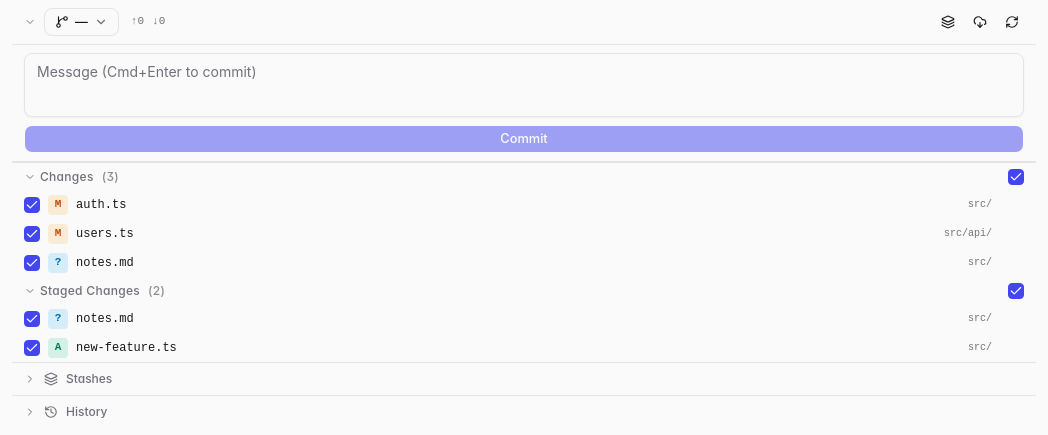
SourceControlPanel › disables Commit until message is populated
Expected: the button with test id "scm-commit-submit" is disabled, [24,125,1024,153]
Type "feat: ship slice" into the text box with test id "scm-message" at (524, 85), box [24,53,1024,117]
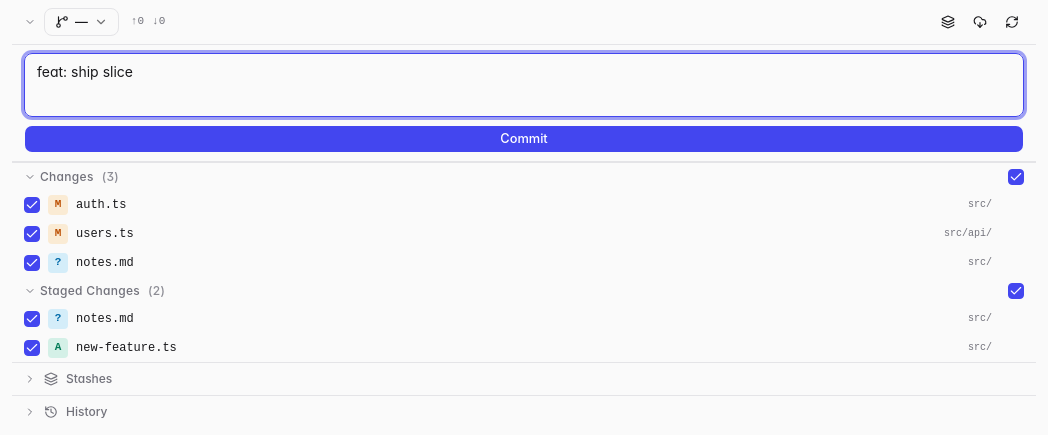
Expected: the button with test id "scm-commit-submit" is enabled, [24,125,1024,153]
